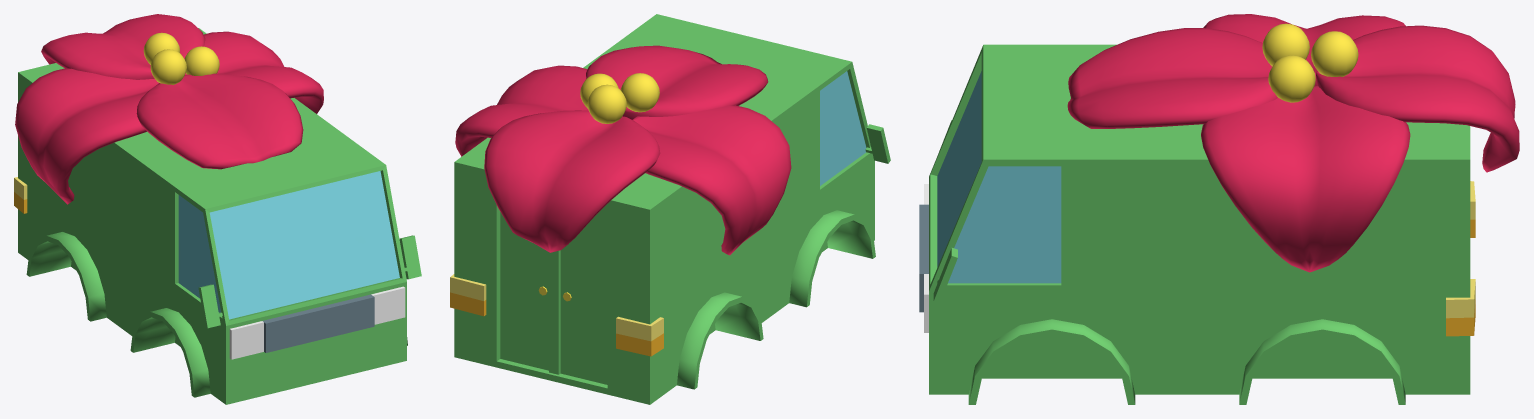
File: green_car.fbx
3 views of the same model, side by side, from view 1: azimuth 30°, elevation 25°; view 2: azimuth 150°, elevation 25°; view 3: azimuth 270°, elevation 25° (orthographic). The views are drawn at different scales.
Visible parts, largest first — view 1: green_car; view 2: green_car; view 3: green_car.
Part boxes in pixels (x1=…): green_car: x1=14, y1=14, x2=421, y2=404; green_car: x1=450, y1=14, x2=890, y2=404; green_car: x1=919, y1=14, x2=1519, y2=404.
Bounding box in the file's own units: 431 × 368 × 658.
